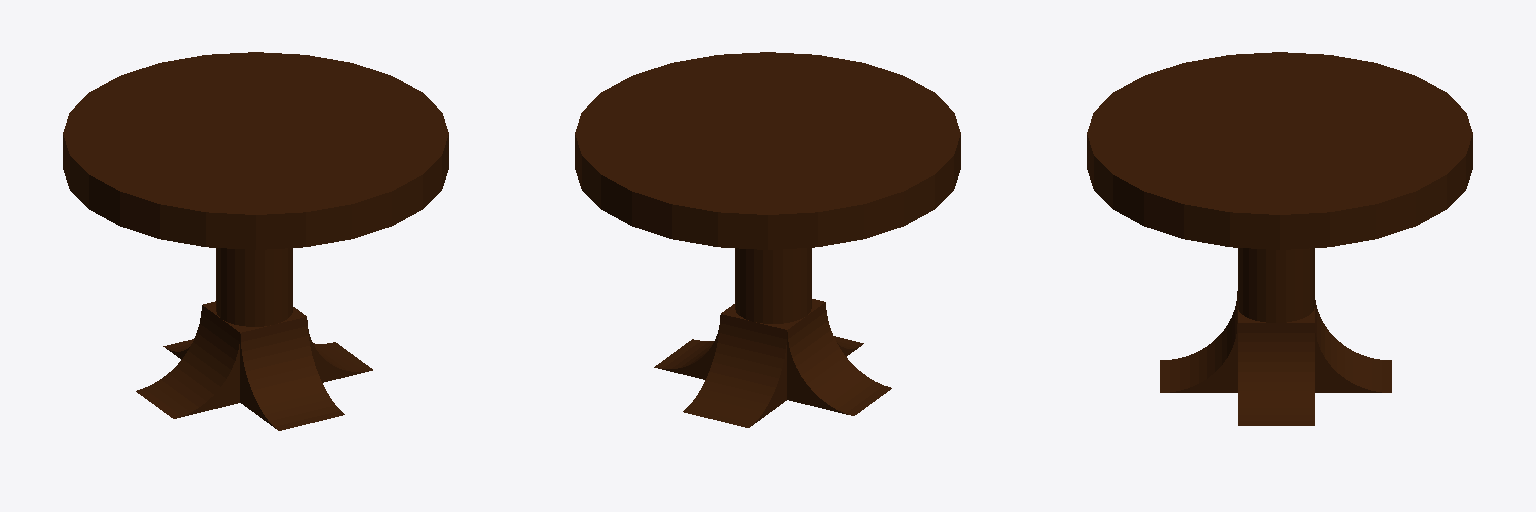
Rendered from WoodCircleTable.obj.
3 views of the same model, side by side, from view 1: azimuth 30°, elevation 25°; view 2: azimuth 150°, elevation 25°; view 3: azimuth 270°, elevation 25° (orthographic).
Visible parts, largest first — view 1: mergedBlocks; view 2: mergedBlocks; view 3: mergedBlocks.
Part boxes in pixels (x1,y1,x2,y2): mergedBlocks: (63,52,448,430); mergedBlocks: (575,52,960,427); mergedBlocks: (1087,52,1472,425).
Size of the model in its own units: 0.7 by 0.49 by 0.7.